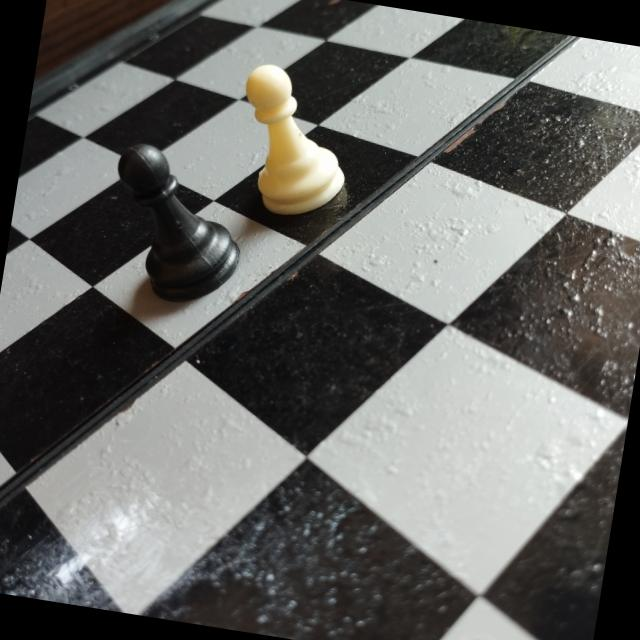Black Pawn: (94, 132, 259, 317)
White Pawn: (224, 58, 366, 230)
